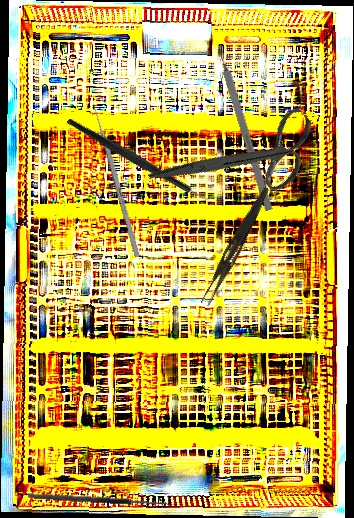Chopper: (65, 76, 221, 243)
Dressing Forceps: (199, 183, 272, 309)
Hook Surgical: (213, 38, 273, 212), (27, 486, 174, 507)
Iris Scissors: (145, 64, 333, 252)
Pusher: (89, 96, 141, 258)
